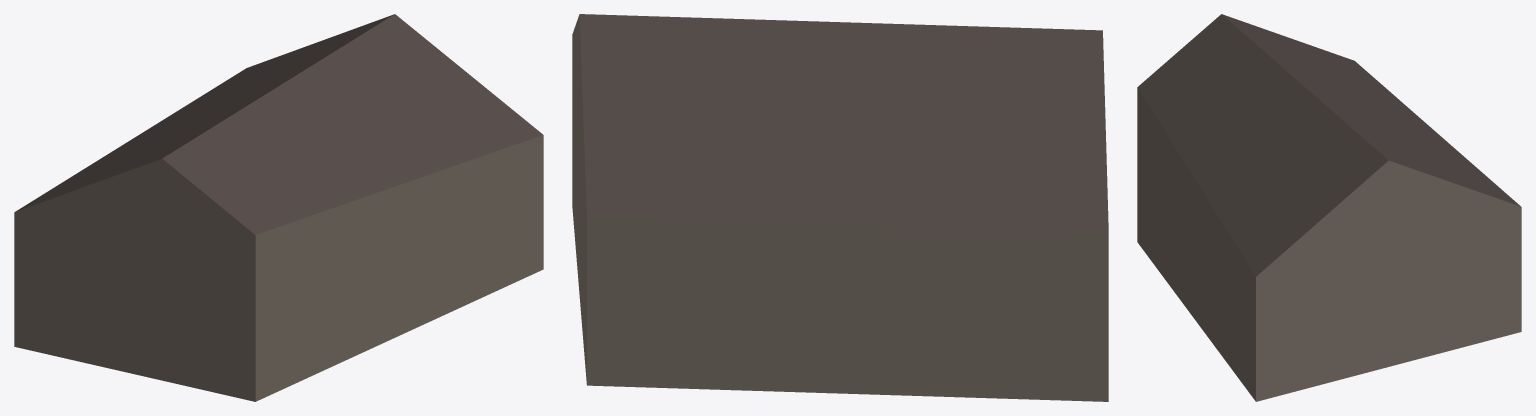
3 renders of one model, left to right at view 1: azimuth 30°, elevation 25°; view 2: azimuth 150°, elevation 25°; view 3: azimuth 270°, elevation 25°, orthographic. The views are drawn at different scales.
Parts seen in each view (by area): view 1: HP-w1512530028; view 2: HP-w1512530028; view 3: HP-w1512530028.
Boxes of the visible parts, box(x1,y1,x2,y2) form: HP-w1512530028: box(14, 14, 543, 401); HP-w1512530028: box(572, 14, 1108, 401); HP-w1512530028: box(1137, 14, 1521, 401).
Size of the model in its own units: 22.23 by 9.9 by 16.7.
